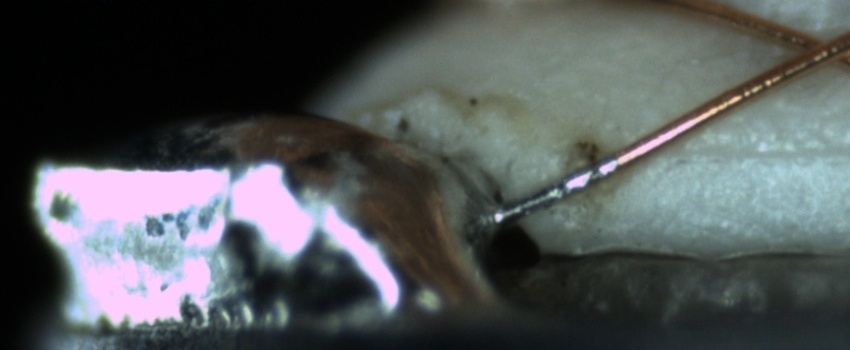CL: (772, 18, 850, 76)
DL: (674, 122, 849, 186)
TS: (494, 155, 622, 224)
